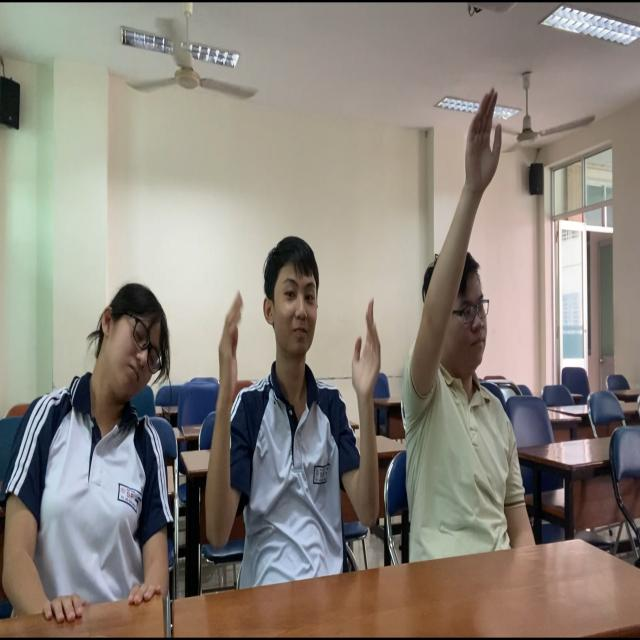raise_hand: (409, 106, 543, 555)
